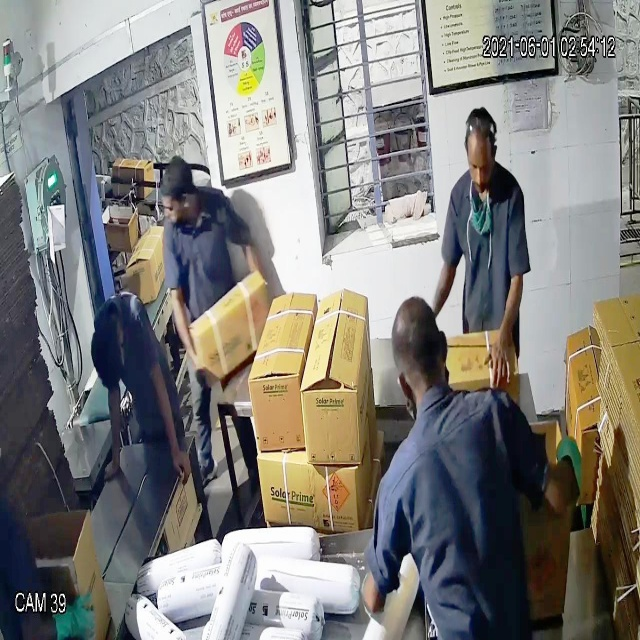Sin_gafas: (462, 148, 498, 181)
